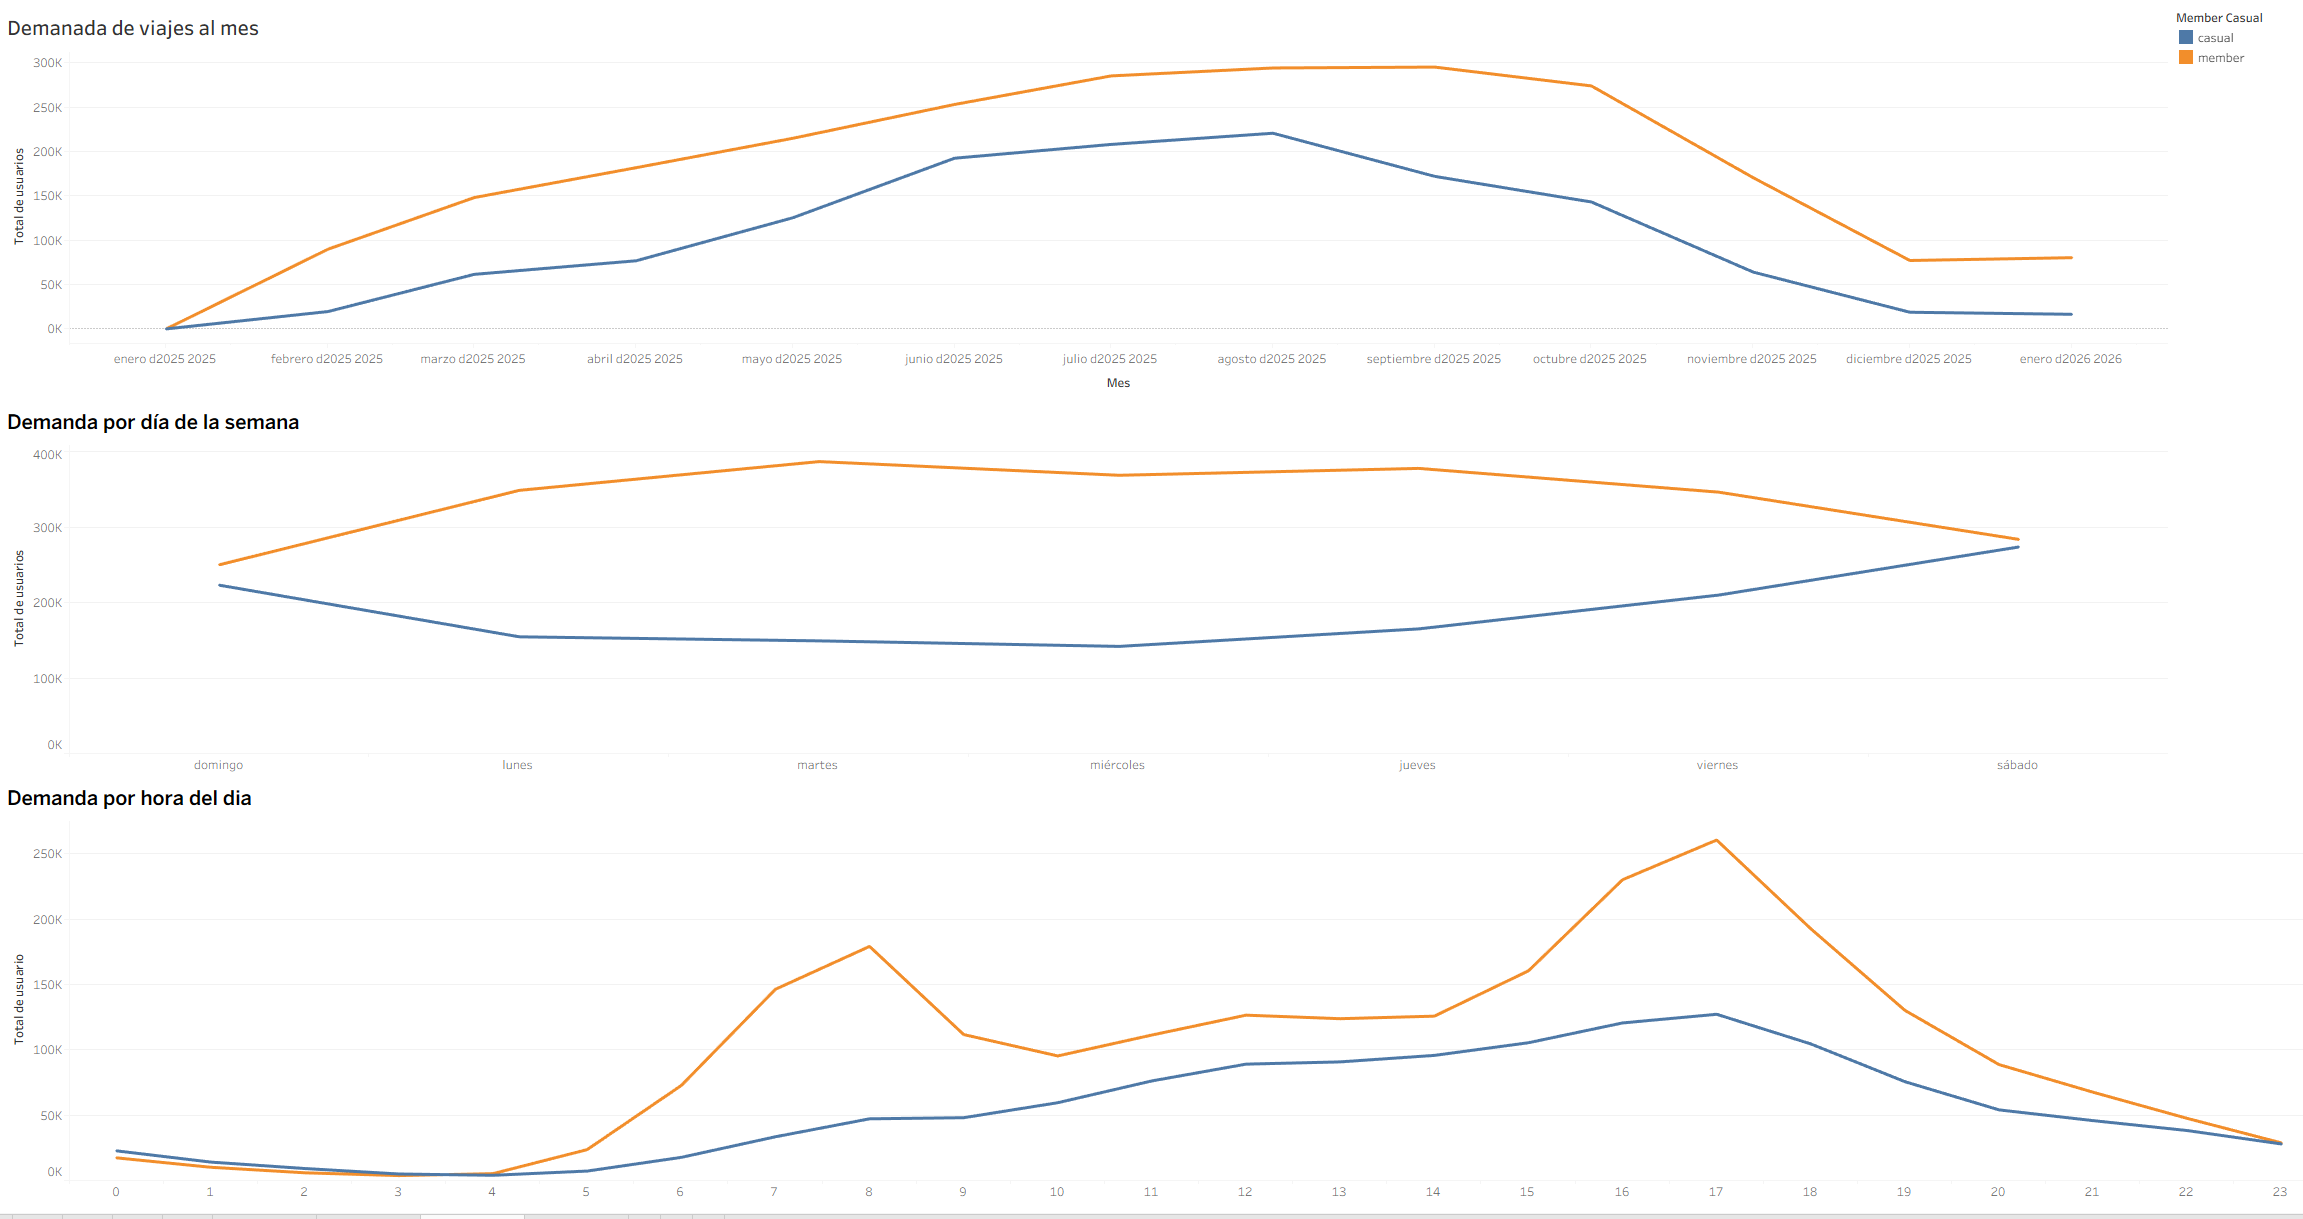

This screenshot's page, from the dashboard's own definition file:
{"tool":"tableau","page":{"name":"Dashboard 3","canvas":[1000,1000],"units":"permille","ordinal":2},"visuals":[{"type":"worksheet","title":"Hoja 3","mark":"Automatic","rows":["cyclistic_datos_limpios.csv_8393B03E2D684EBA9C58D06571D89B41"],"cols":["started_at"],"box":[3.4,6.6,925.1,326.5]},{"type":"legend","title":"Hoja 3","param":"[federated.1qwhhns0i9gyeo1g87bj21inpg46].[none:member_casual:nk]","box":[928.5,6.6,68.1,414.5]},{"type":"worksheet","title":"Hoja 4","mark":"Automatic","rows":["cyclistic_datos_limpios.csv_8393B03E2D684EBA9C58D06571D89B41"],"cols":["started_at"],"box":[3.4,333,925.1,309.2]},{"type":"worksheet","title":"Hoja 5","mark":"Automatic","rows":["cyclistic_datos_limpios.csv_8393B03E2D684EBA9C58D06571D89B41"],"cols":["started_at"],"box":[3.4,642.3,993.2,351.2]}]}

Visuals, with their boxes on the dashboard's canvas, which has no fixed pixel size, in thousandths of its width and height (x1, y1, x2, y2). These are canvas units, not pixel positions in the 2303x1219 screenshot, which may show the page scaled, cropped or inside an application window:
"Hoja 3" worksheet: (3,7,928,333)
"Hoja 3" legend: (928,7,997,421)
"Hoja 4" worksheet: (3,333,928,642)
"Hoja 5" worksheet: (3,642,997,994)
